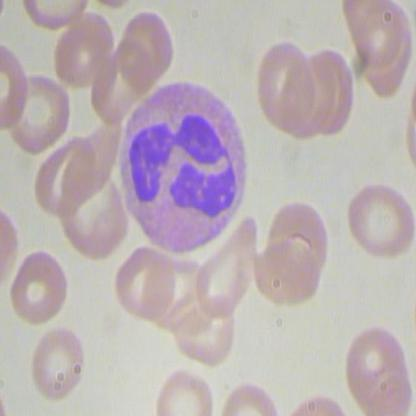RBC: (194, 216, 260, 319), (254, 34, 318, 135), (340, 321, 409, 409), (31, 131, 98, 219), (344, 179, 416, 260), (250, 229, 324, 307), (25, 320, 91, 405), (7, 72, 72, 158), (112, 238, 177, 324), (8, 246, 71, 329), (52, 10, 116, 91), (118, 9, 181, 82)
WBC: (114, 76, 253, 258)
